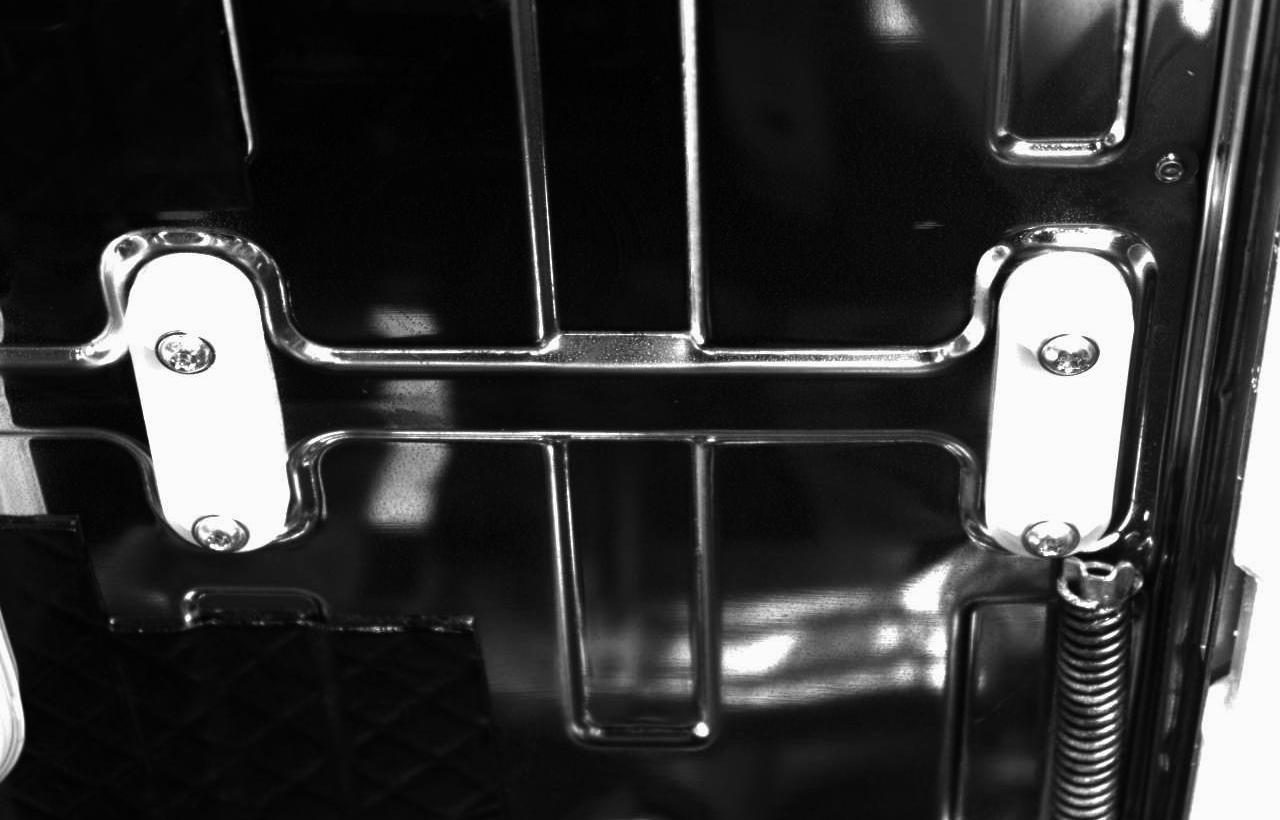vida-ok: (142, 321, 229, 398), (1017, 314, 1105, 387), (182, 506, 262, 570), (1005, 506, 1080, 565)
